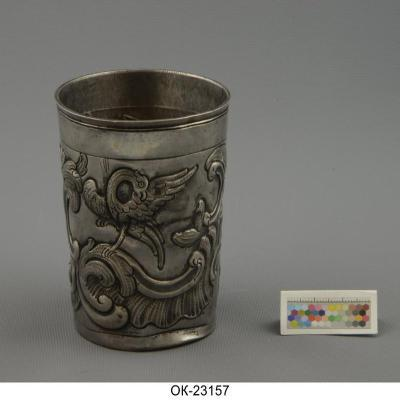dpi: (54, 70, 231, 354)
